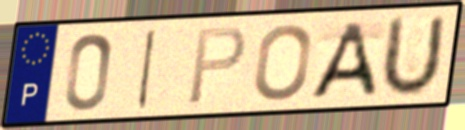0: (63, 30, 115, 113)
A: (306, 19, 380, 101)
I: (134, 26, 161, 112)
O: (251, 21, 314, 103)
P: (185, 24, 249, 108)
U: (376, 12, 449, 101)
